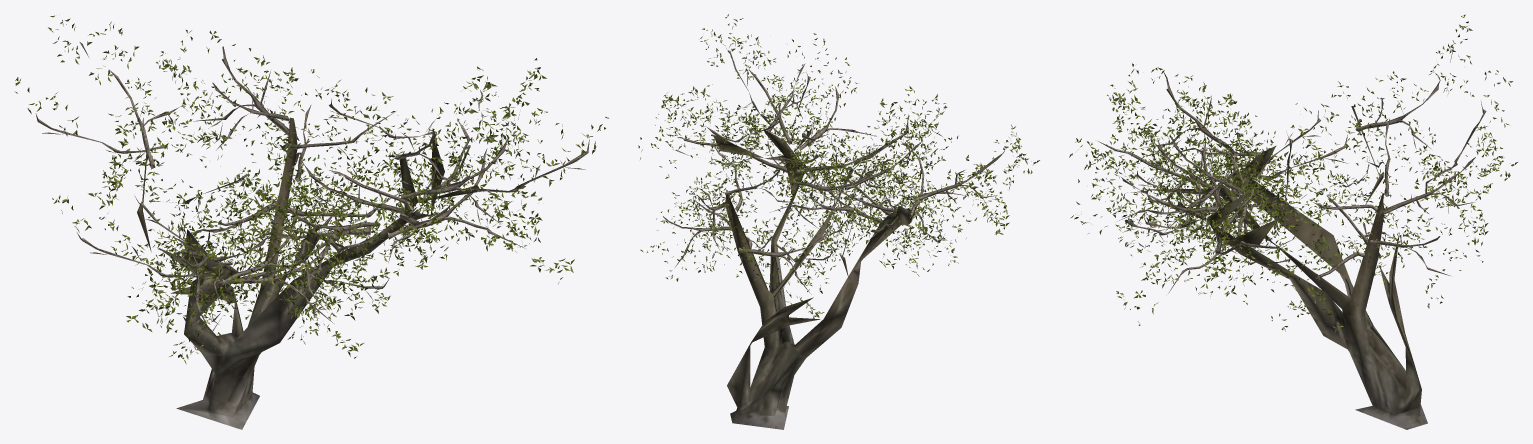
The model's file is island_tree_02.glb.
The picture shows the model from 3 angles, left to right: view 1: azimuth 30°, elevation 25°; view 2: azimuth 150°, elevation 25°; view 3: azimuth 270°, elevation 25°; orthographic projection. The views are drawn at different scales.
Visible parts, largest first — view 1: island_tree_02_LOD0; view 2: island_tree_02_LOD0; view 3: island_tree_02_LOD0.
Boxes of the visible parts, x1=… form: island_tree_02_LOD0: x1=14, y1=15, x2=608, y2=429; island_tree_02_LOD0: x1=638, y1=14, x2=1039, y2=429; island_tree_02_LOD0: x1=1069, y1=14, x2=1517, y2=429.
Bounding box in the file's own units: 3.82 × 3.4 × 4.03.
3 materials, 3 textured.
